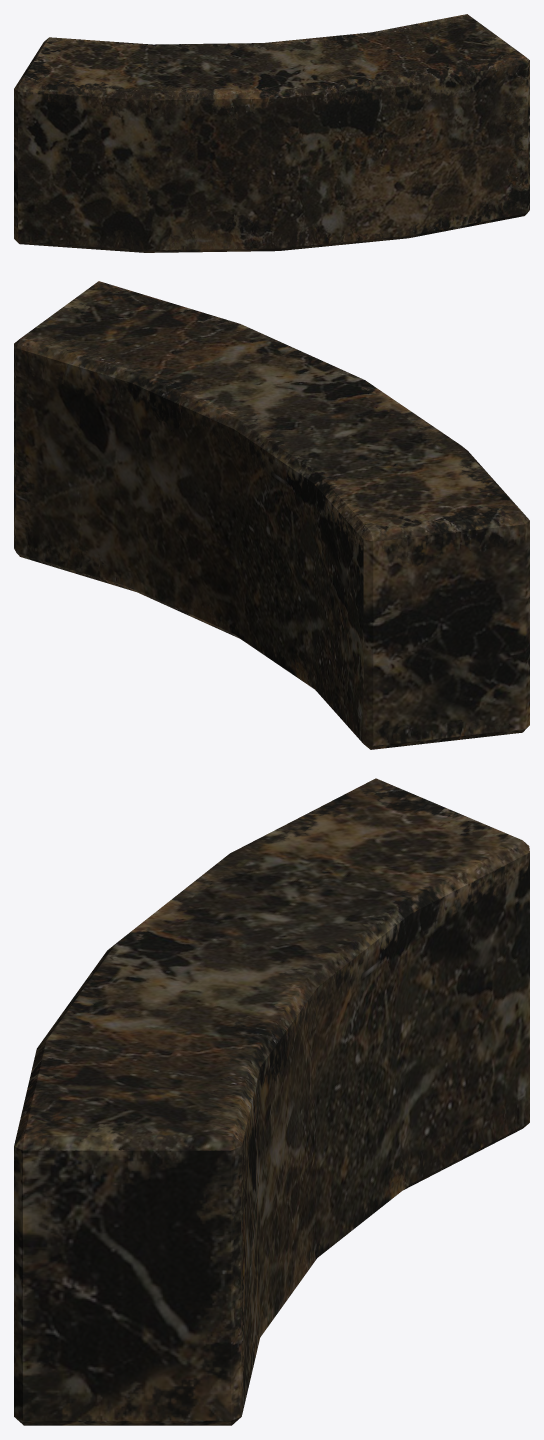
File: SM_Granite_Fencing_block_2.FBX
The picture shows the model from 3 angles, top to bottom: view 1: azimuth 30°, elevation 25°; view 2: azimuth 150°, elevation 25°; view 3: azimuth 270°, elevation 25°; orthographic projection. The views are drawn at different scales.
Visible parts, largest first — view 1: Granite_Fencing_block_2; view 2: Granite_Fencing_block_2; view 3: Granite_Fencing_block_2.
Part boxes in pixels (x1,y1,x2,y2): Granite_Fencing_block_2: (14,14,529,252); Granite_Fencing_block_2: (14,281,529,749); Granite_Fencing_block_2: (14,778,529,1425).
Size of the model in its own units: 1321 by 786 by 484.
